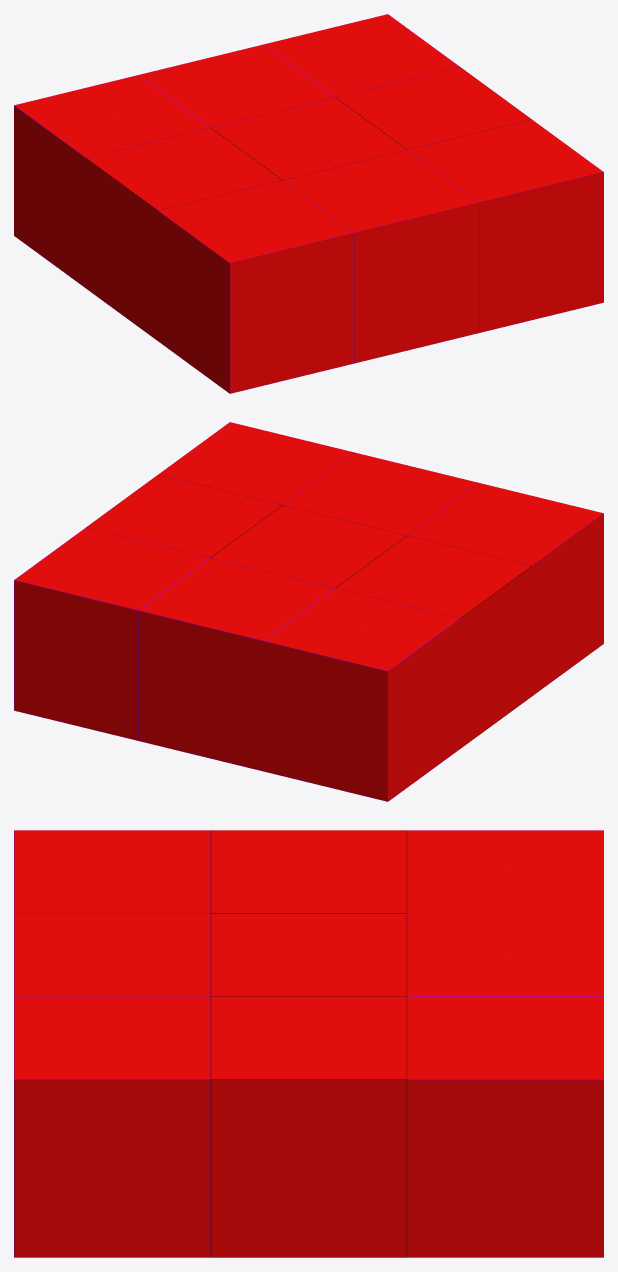
Rendered from ceil_0.cube.obj.
The picture shows the model from 3 angles, top to bottom: view 1: azimuth 30°, elevation 25°; view 2: azimuth 150°, elevation 25°; view 3: azimuth 270°, elevation 25°; orthographic projection. The views are drawn at different scales.
Bounding box in the file's own units: 3 × 1 × 3.
1 material, 1 textured.
